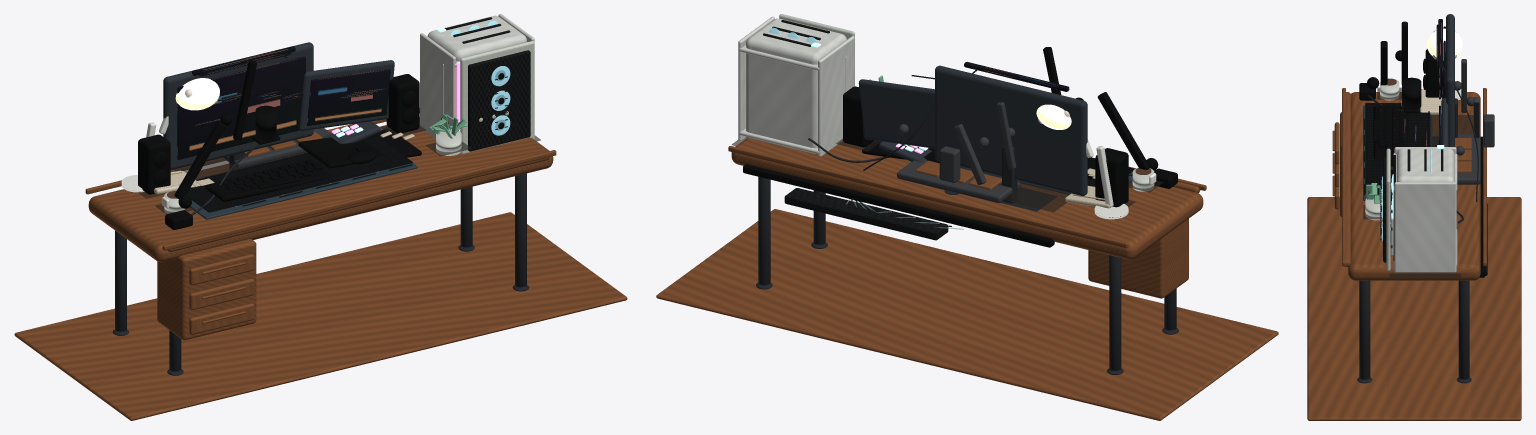
File: p2s_premium_workstation_hero_v5.glb
3 views of the same model, side by side, from view 1: azimuth 30°, elevation 25°; view 2: azimuth 150°, elevation 25°; view 3: azimuth 270°, elevation 25° (orthographic). The views are drawn at different scales.
Parts seen in each view (by area): view 1: premium_workstation_v2_preview_floor_shadow_catcher, premium_workstation_oiled_oak_waterfall_top, premium_workstation_main_monitor_inner_screen, premium_workstation_left_lacquer_drawer_carcase, premium_workstation_v3_pc_front_deep_mesh_insert, premium_workstation_side_display_blue_screen, premium_workstation_v3_deskmat_top_charcoal_overlay, premium_workstation_main_monitor_outer_shell, premium_workstation_v2_pc_case_vertical_frame_0.94, premium_workstation_v2_oak_end_grain_band_0.51, premium_workstation_white_pc_case_body, premium_workstation_side_display_keyboard_deck (+22 smaller); view 2: premium_workstation_v2_preview_floor_shadow_catcher, premium_workstation_oiled_oak_waterfall_top, premium_workstation_main_monitor_outer_shell, premium_workstation_white_pc_case_body, premium_workstation_side_display_shell, premium_workstation_left_lacquer_drawer_carcase, premium_workstation_rear_black_cable_raceway, premium_workstation_v2_pc_case_vertical_frame_0.94, premium_workstation_v2_underdesk_mesh_cable_tray, premium_workstation_v2_oak_end_grain_band_-0.51, premium_workstation_v2_aluminum_monitor_riser_shelf, premium_workstation_tapered_black_steel_leg_-1.32_-0.36 (+12 smaller); view 3: premium_workstation_v2_preview_floor_shadow_catcher, premium_workstation_oiled_oak_waterfall_top, premium_workstation_v2_pc_case_vertical_frame_1.54, premium_workstation_white_pc_case_body, premium_workstation_v3_deskmat_top_charcoal_overlay, premium_workstation_tapered_black_steel_leg_1.32_-0.36, premium_workstation_tapered_black_steel_leg_1.32_0.36, premium_workstation_main_monitor_outer_shell, premium_workstation_oak_front_soft_bullnose, premium_workstation_low_profile_keyboard_body, premium_workstation_v2_oak_end_grain_band_0.51, premium_workstation_v2_aluminum_monitor_riser_shelf (+24 smaller).
Part boxes in pixels (box(x1,y1,x2,y2)): premium_workstation_v2_preview_floor_shadow_catcher: box(14, 212, 627, 420); premium_workstation_oiled_oak_waterfall_top: box(88, 117, 553, 262); premium_workstation_main_monitor_inner_screen: box(177, 56, 305, 159); premium_workstation_left_lacquer_drawer_carcase: box(157, 239, 256, 340); premium_workstation_v3_pc_front_deep_mesh_insert: box(468, 50, 530, 151); premium_workstation_side_display_blue_screen: box(307, 69, 390, 125); premium_workstation_v3_deskmat_top_charcoal_overlay: box(186, 136, 412, 212); premium_workstation_main_monitor_outer_shell: box(163, 42, 313, 169); premium_workstation_v2_pc_case_vertical_frame_0.94: box(420, 33, 456, 138); premium_workstation_v2_oak_end_grain_band_0.51: box(162, 150, 556, 250); premium_workstation_white_pc_case_body: box(427, 15, 526, 61); premium_workstation_side_display_keyboard_deck: box(298, 129, 421, 168); premium_workstation_v2_preview_floor_shadow_catcher: box(656, 209, 1278, 420); premium_workstation_oiled_oak_waterfall_top: box(731, 138, 1203, 259); premium_workstation_main_monitor_outer_shell: box(935, 65, 1087, 195); premium_workstation_white_pc_case_body: box(746, 18, 846, 153); premium_workstation_side_display_shell: box(858, 79, 934, 148); premium_workstation_left_lacquer_drawer_carcase: box(1088, 218, 1188, 298); premium_workstation_rear_black_cable_raceway: box(743, 164, 1054, 247); premium_workstation_v2_pc_case_vertical_frame_0.94: box(818, 36, 854, 156); premium_workstation_v2_underdesk_mesh_cable_tray: box(784, 188, 948, 240); premium_workstation_v2_oak_end_grain_band_-0.51: box(728, 146, 1128, 247); premium_workstation_v2_aluminum_monitor_riser_shelf: box(897, 160, 1020, 202); premium_workstation_tapered_black_steel_leg_-1.32_-0.36: box(1109, 255, 1121, 370); premium_workstation_v2_preview_floor_shadow_catcher: box(1307, 197, 1521, 420); premium_workstation_oiled_oak_waterfall_top: box(1348, 92, 1480, 280); premium_workstation_v2_pc_case_vertical_frame_1.54: box(1394, 182, 1456, 272); premium_workstation_white_pc_case_body: box(1396, 148, 1454, 181); premium_workstation_v3_deskmat_top_charcoal_overlay: box(1365, 103, 1430, 194); premium_workstation_tapered_black_steel_leg_1.32_-0.36: box(1458, 280, 1469, 379); premium_workstation_tapered_black_steel_leg_1.32_0.36: box(1359, 280, 1370, 379); premium_workstation_main_monitor_outer_shell: box(1446, 14, 1454, 146); premium_workstation_oak_front_soft_bullnose: box(1344, 92, 1350, 266); premium_workstation_low_profile_keyboard_body: box(1373, 105, 1408, 159); premium_workstation_v2_oak_end_grain_band_0.51: box(1342, 88, 1345, 266); premium_workstation_v2_aluminum_monitor_riser_shelf: box(1457, 134, 1480, 184).
Bounding box in the file's own units: 3.8 × 2.04 × 1.55.
27 materials, 1 textured.
